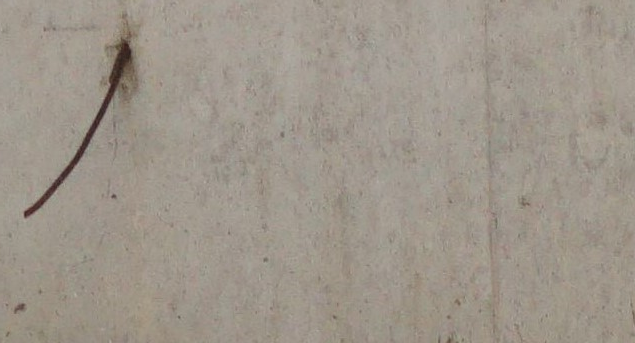Exposed reinforcement: (23, 39, 132, 219)
